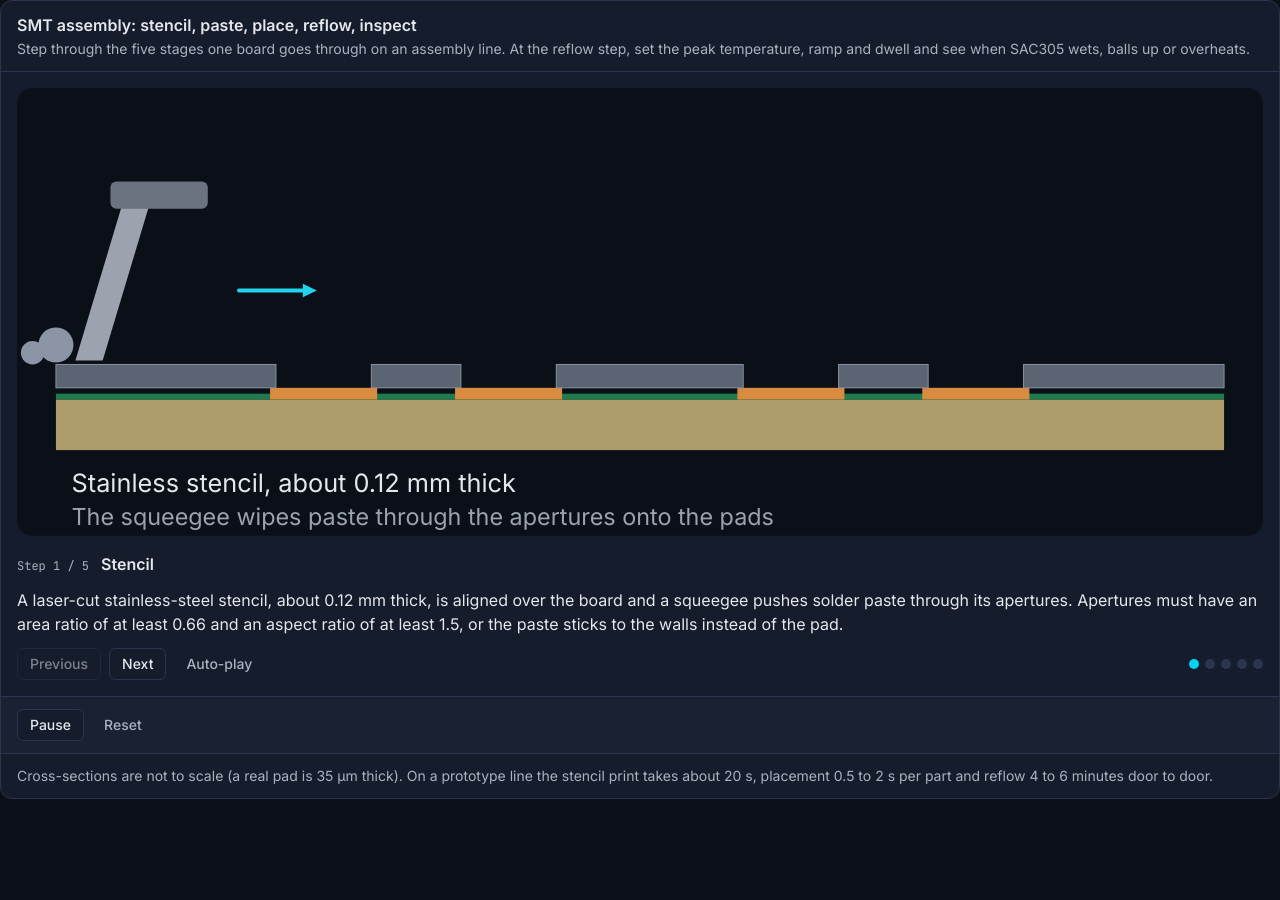
Test case: SmtAssemblyStepper › walks through stencil, paste, place, reflow and inspect
Expected: the text "Step 1 / 5" is shown, x1=17 y1=558 x2=89 y2=574
Expected: the heading "Stencil" is shown, x1=101 y1=552 x2=154 y2=576
What coordinates should you click on to do the following:
click the button "Next"
I would click on:
 (138, 664)
Its box is x1=109 y1=648 x2=166 y2=680.
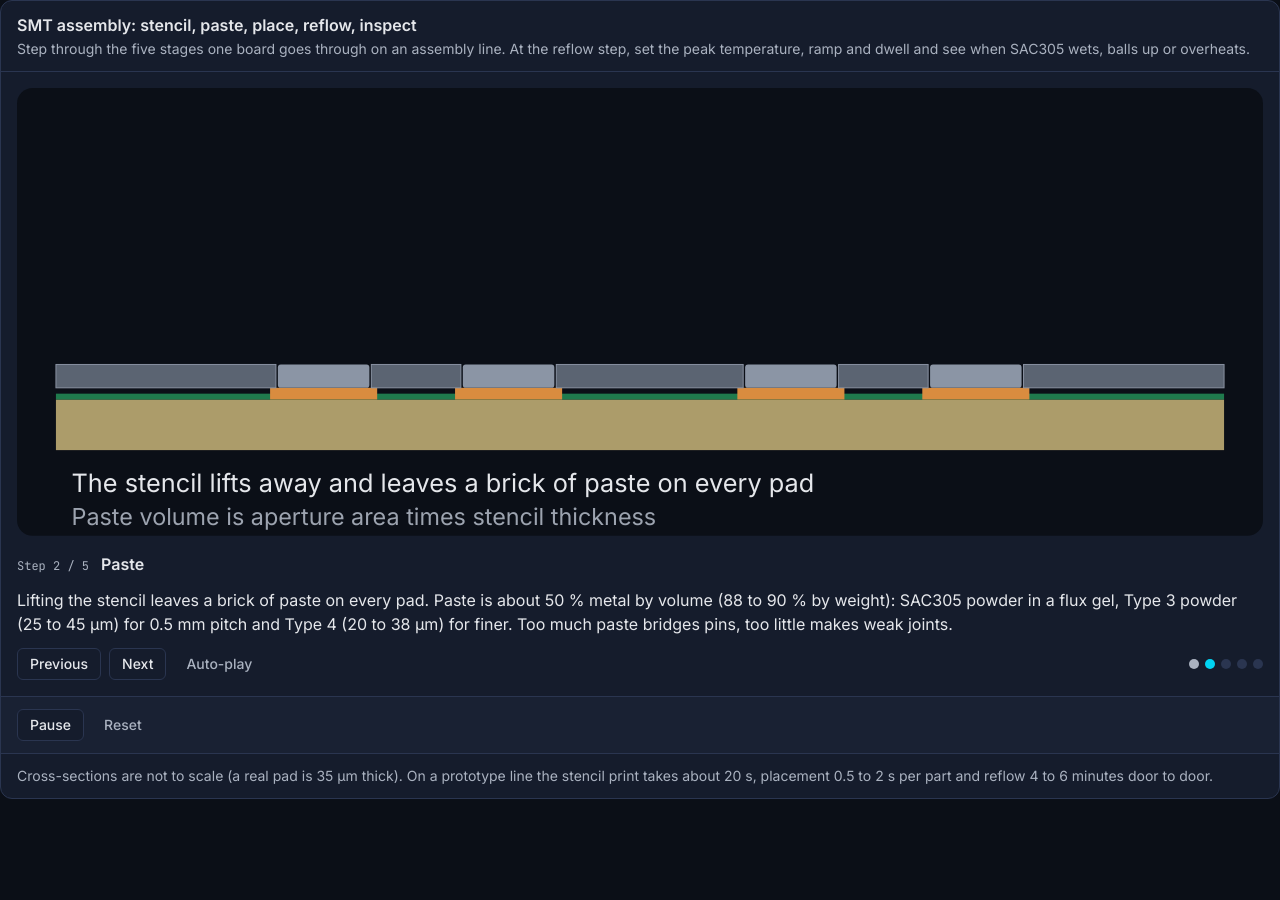
Expected: the heading "Paste" is shown, x1=101 y1=552 x2=144 y2=576
What coordinates should you click on to do the following:
click the button "Next"
I would click on:
 (138, 664)
Its box is x1=109 y1=648 x2=166 y2=680.
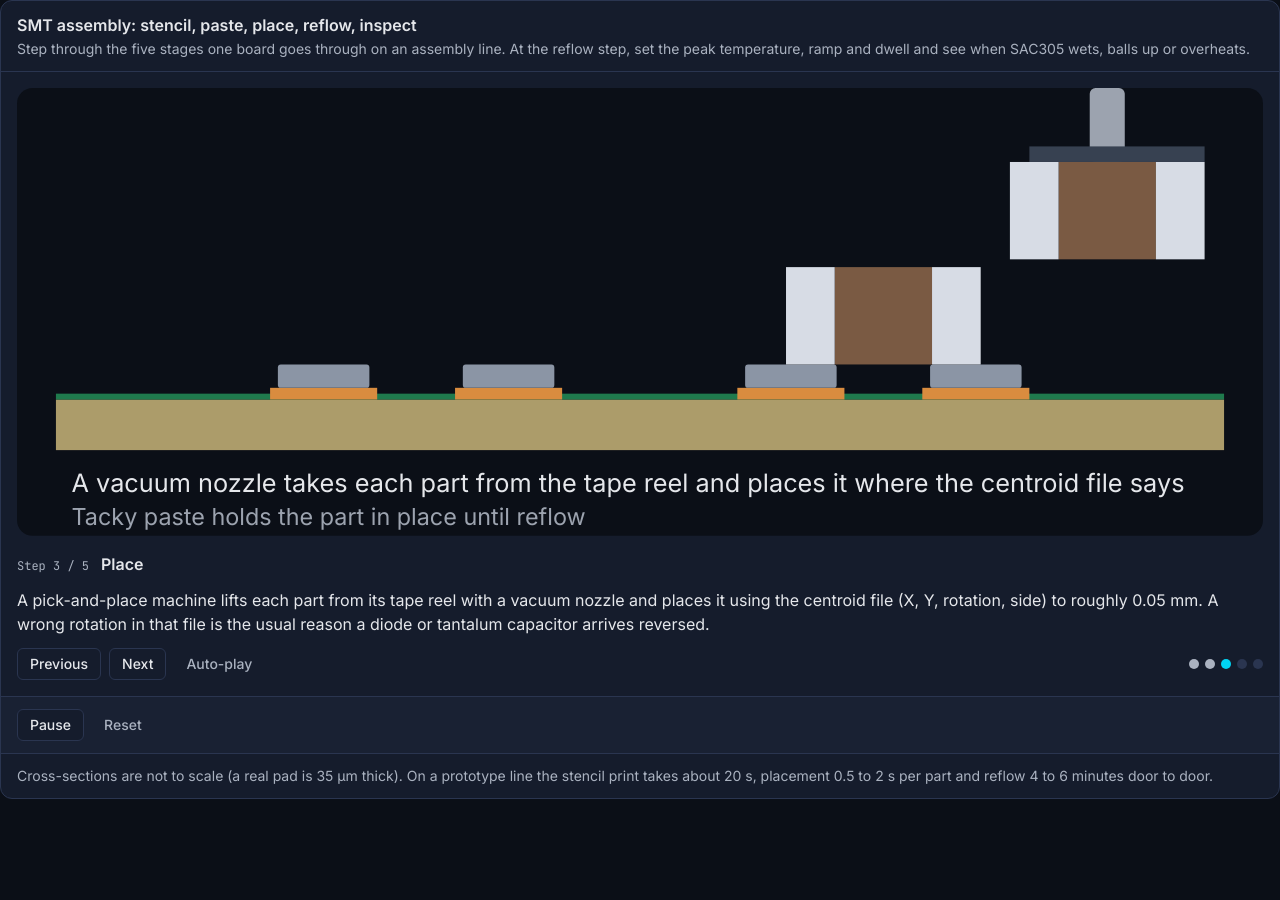
Expected: the heading "Place" is shown, x1=101 y1=552 x2=144 y2=576
What coordinates should you click on to do the following:
click the button "Next"
I would click on:
 (138, 664)
Its box is x1=109 y1=648 x2=166 y2=680.
(page scrolled)
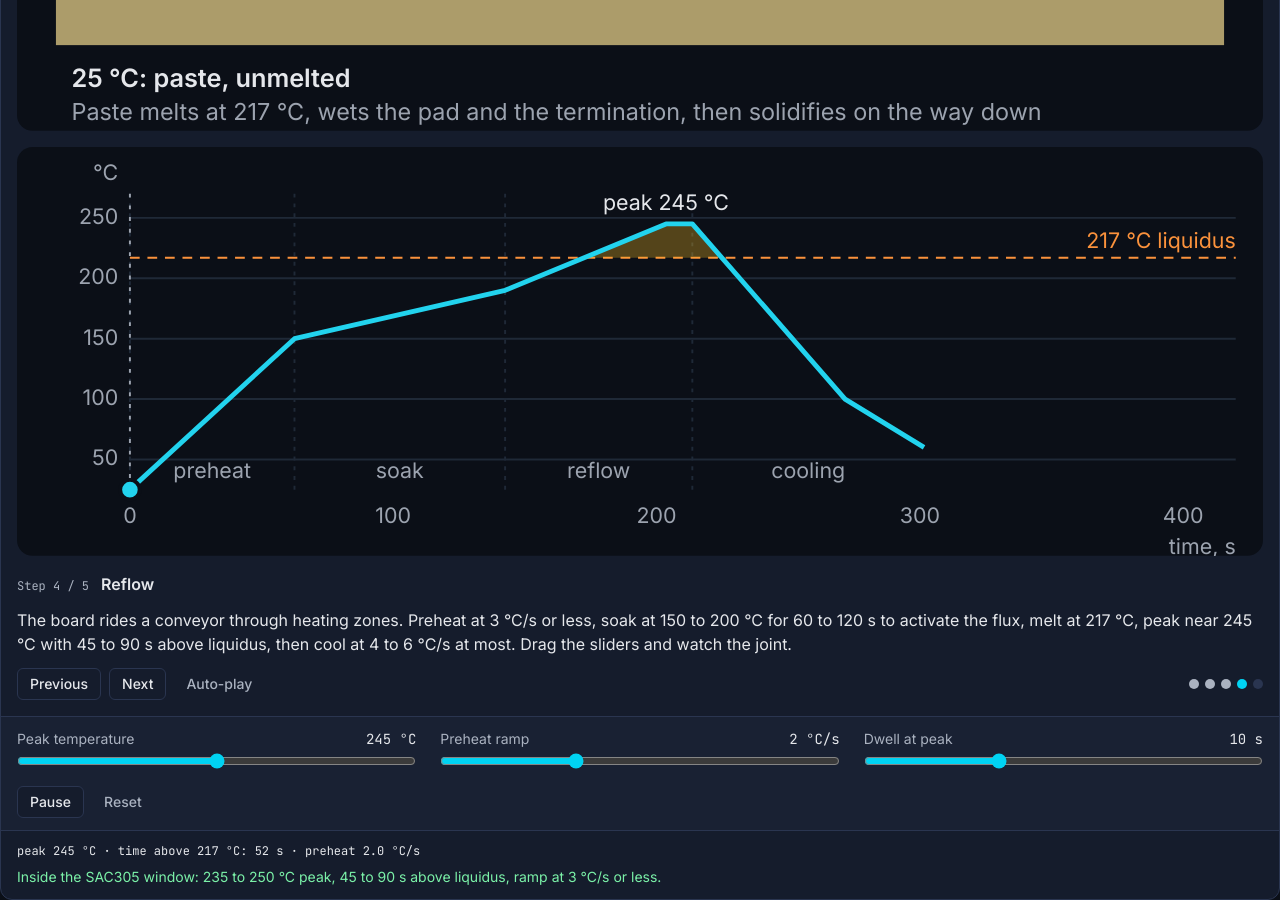
Expected: the heading "Reflow" is shown, x1=101 y1=572 x2=154 y2=596
What coordinates should you click on to do the following:
click the button "Next"
I would click on:
 (138, 684)
Its box is x1=109 y1=668 x2=166 y2=700.
(page scrolled)
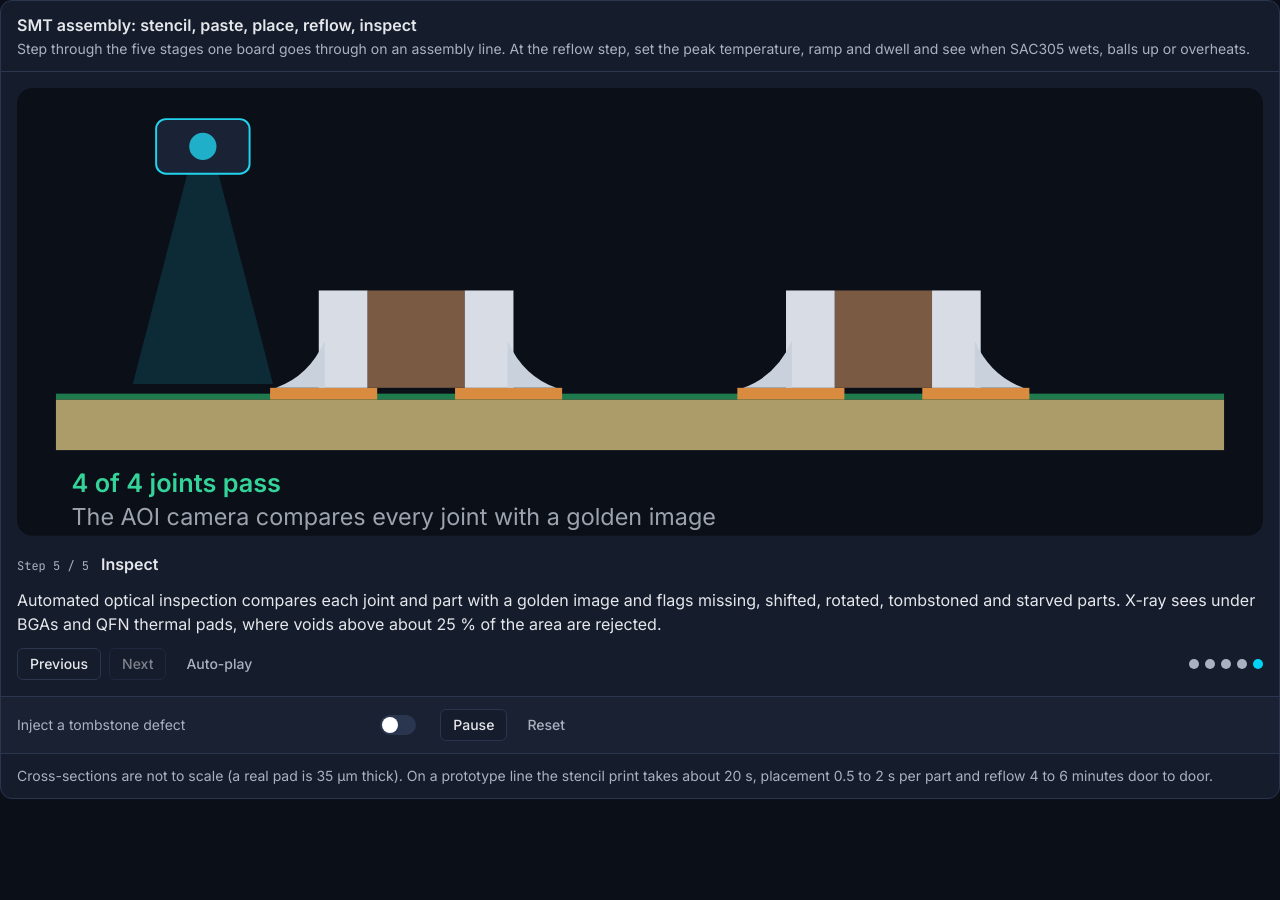
Expected: the heading "Inspect" is shown, x1=101 y1=552 x2=158 y2=576
Expected: the text "Step 5 / 5" is shown, x1=17 y1=558 x2=89 y2=574
